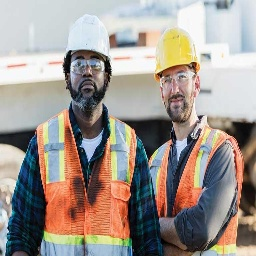helmet: (63, 15, 114, 68), (155, 30, 200, 71)
person: (24, 15, 158, 256), (144, 23, 246, 256)
vest: (35, 107, 139, 256), (147, 127, 246, 255)
